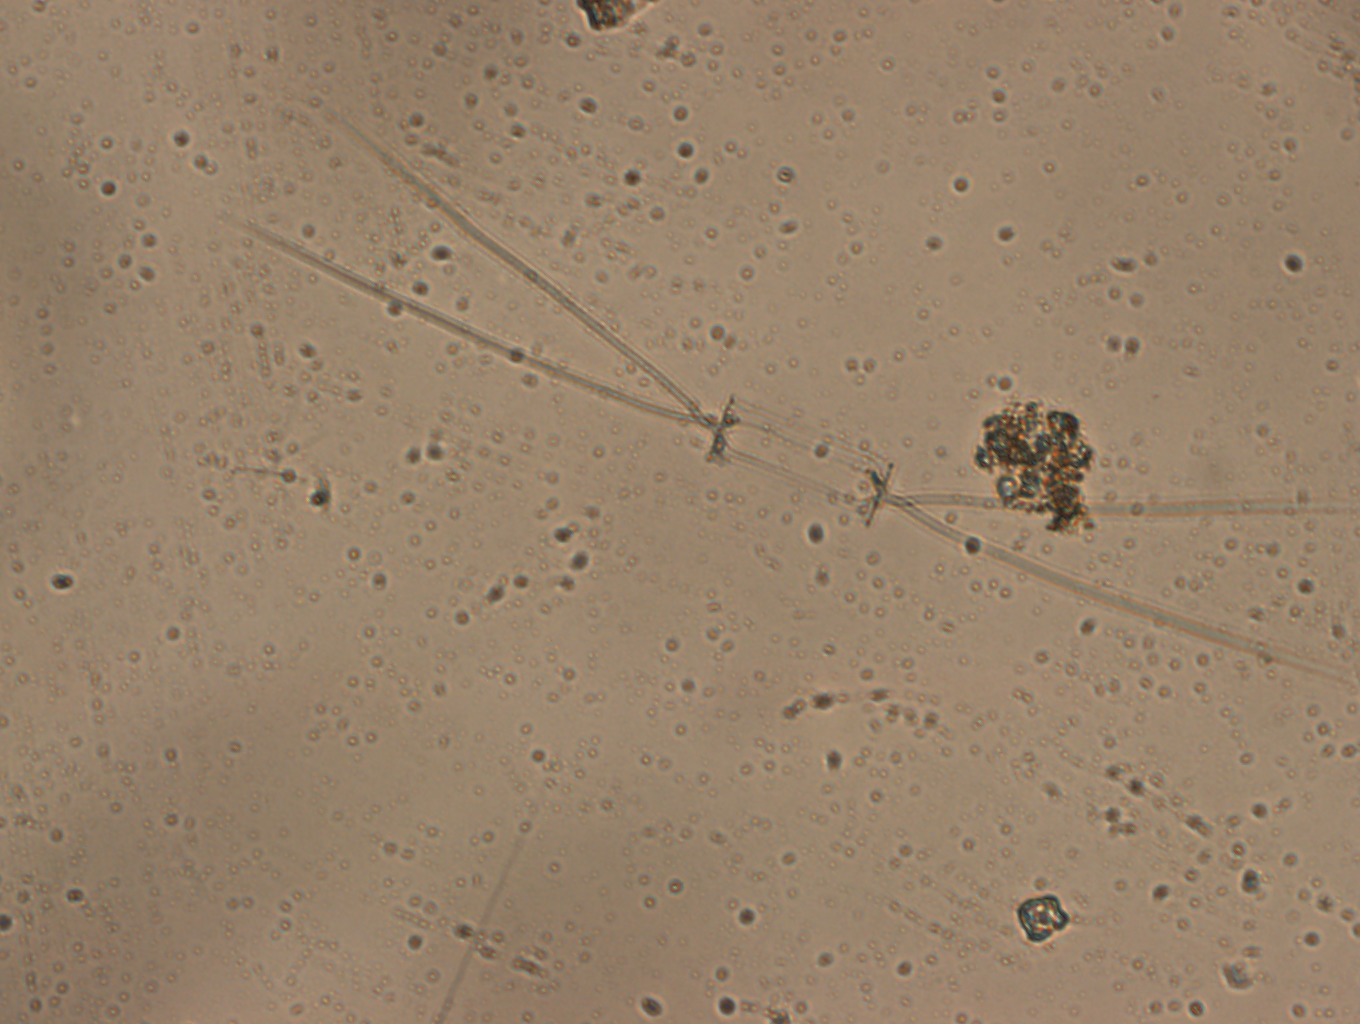chaetoceros: (230, 108, 1360, 683)
